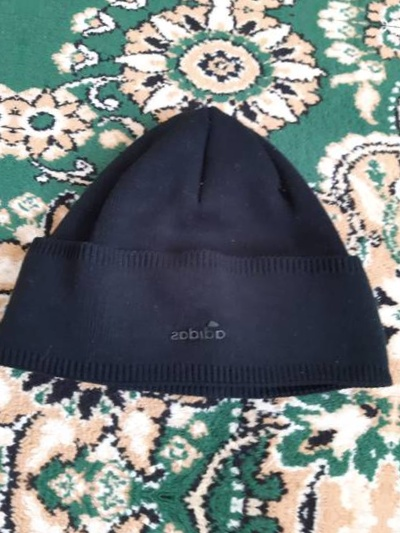Hat: (0, 74, 400, 430), (0, 27, 3, 383)
